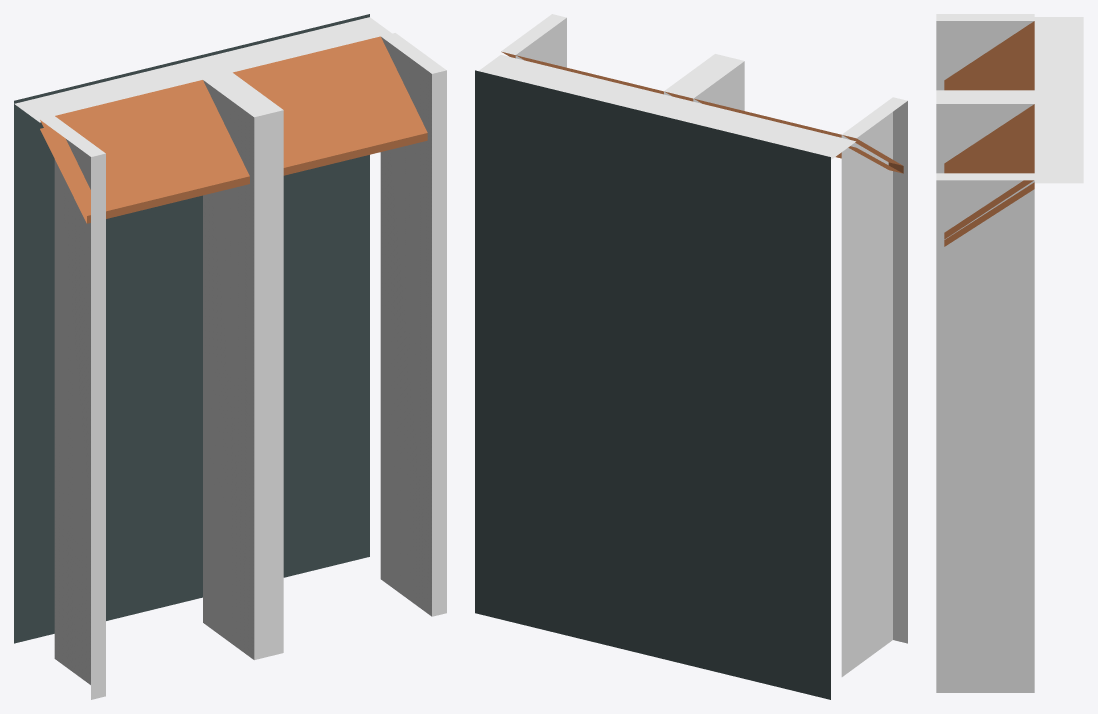
The picture shows the model from 3 angles, left to right: view 1: azimuth 30°, elevation 25°; view 2: azimuth 150°, elevation 25°; view 3: azimuth 270°, elevation 25°; orthographic projection. The views are drawn at different scales.
Parts seen in each view (by area): view 1: a2002/600/base-w1; view 2: a2002/600/base-w1; view 3: a2002/600/base-w1.
Boxes of the visible parts, x1,y1,x2,y2 form: a2002/600/base-w1: (14,14,446,699); a2002/600/base-w1: (475,14,907,699); a2002/600/base-w1: (936,14,1083,692).
Bounding box in the file's own units: 2.4 × 3.5 × 0.9.
